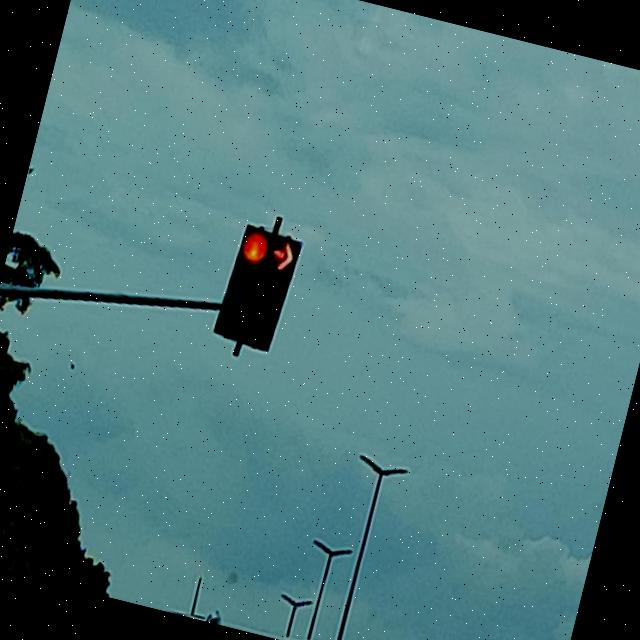red_light: (239, 232, 303, 354), (212, 221, 274, 342)
